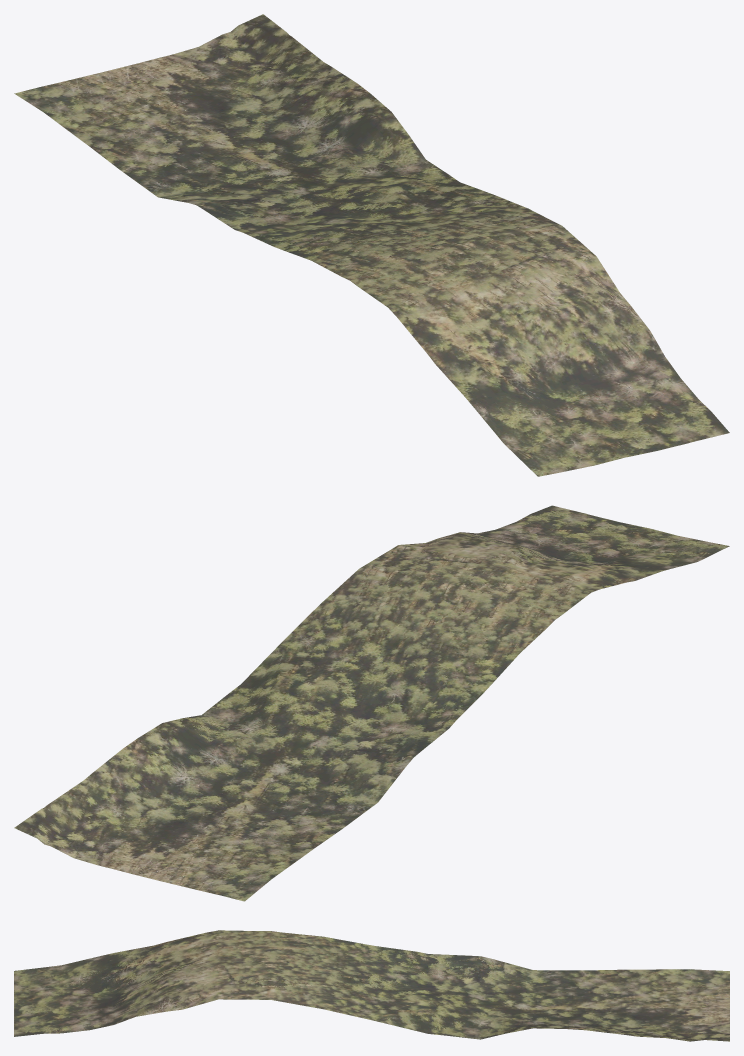
File: CM_Terrain_24493940_6814264.fbx
3 renders of one model, top to bottom at view 1: azimuth 30°, elevation 25°; view 2: azimuth 150°, elevation 25°; view 3: azimuth 270°, elevation 25°, orthographic. The views are drawn at different scales.
Parts seen in each view (by area): view 1: CM_Terrain_24493940_6814264_LOD0; view 2: CM_Terrain_24493940_6814264_LOD0; view 3: CM_Terrain_24493940_6814264_LOD0.
Boxes of the visible parts, left/top/right/bottom form: CM_Terrain_24493940_6814264_LOD0: left=14, top=14, right=729, bottom=476; CM_Terrain_24493940_6814264_LOD0: left=14, top=505, right=729, bottom=901; CM_Terrain_24493940_6814264_LOD0: left=14, top=930, right=729, bottom=1041.
Size of what is drawn, in the model's own units: 56.26 by 15.03 by 205.
